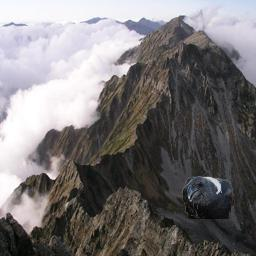Crow: (182, 176, 234, 219)
